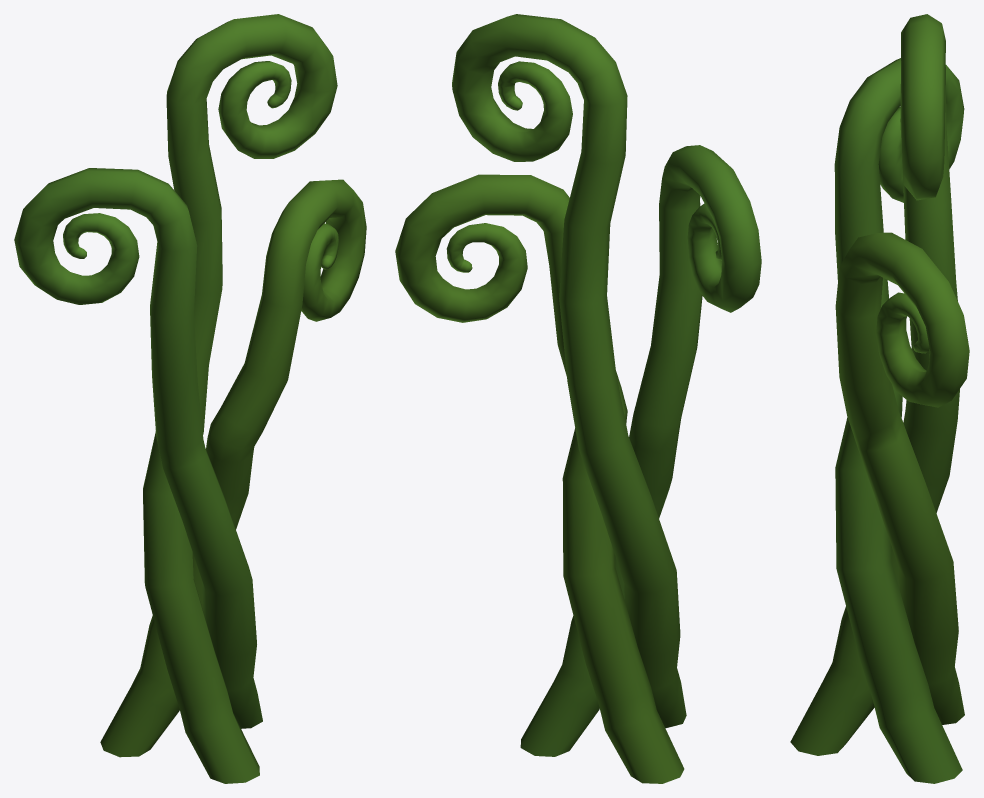
The model's file is Roots_Remake_D.glb.
3 views of the same model, side by side, from view 1: azimuth 30°, elevation 25°; view 2: azimuth 150°, elevation 25°; view 3: azimuth 270°, elevation 25° (orthographic). The views are drawn at different scales.
Visible parts, largest first — view 1: Roots_Remake_D; view 2: Roots_Remake_D; view 3: Roots_Remake_D.
Boxes of the visible parts, x1,y1,x2,y2 form: Roots_Remake_D: (14, 14, 366, 783); Roots_Remake_D: (395, 14, 761, 783); Roots_Remake_D: (790, 14, 969, 783).
Bounding box in the file's own units: 1.54 × 2.98 × 0.6466.
